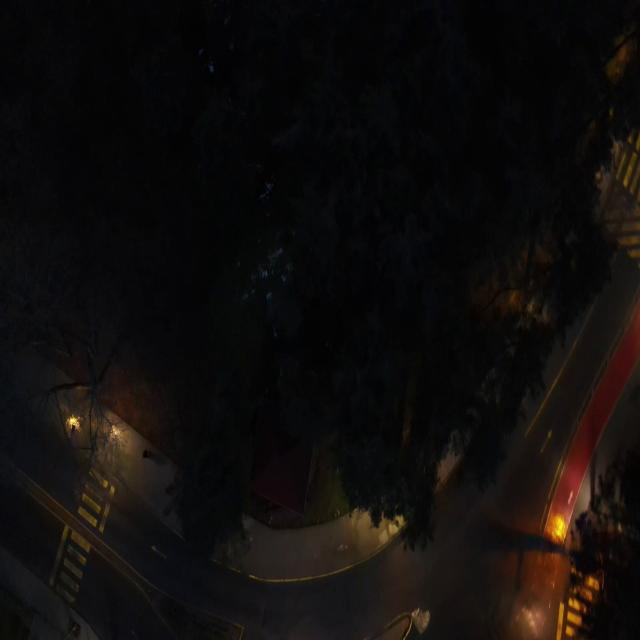p3rson: (142, 448, 148, 458)
